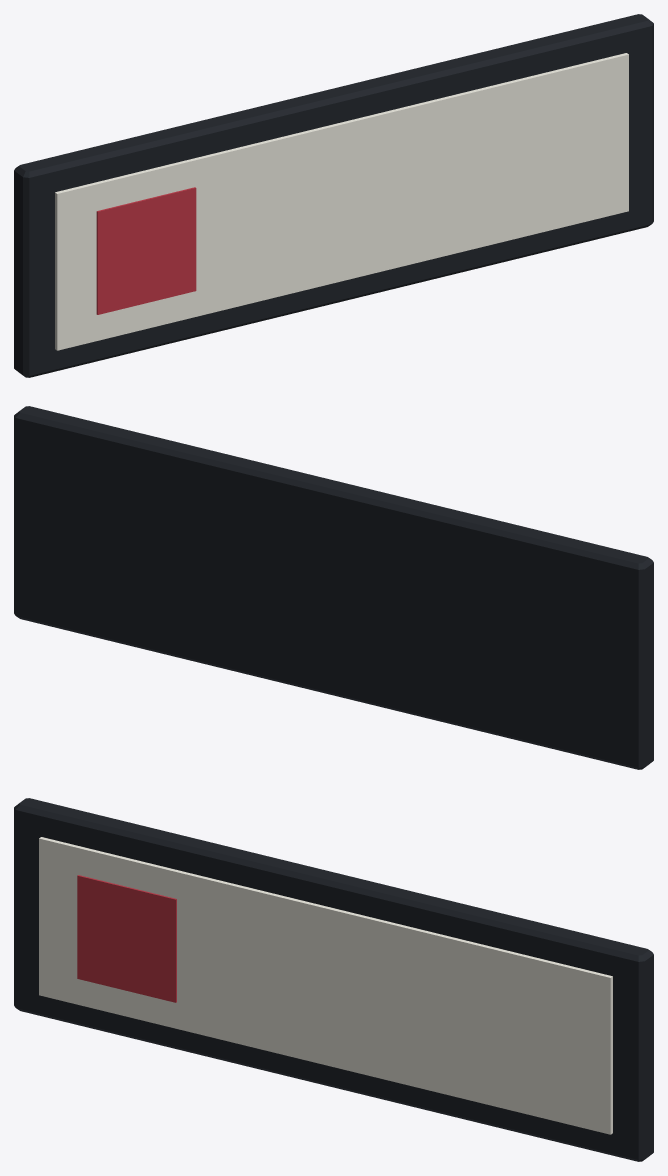
Rendered from shop_sign_blank.glb.
The picture shows the model from 3 angles, top to bottom: view 1: azimuth 30°, elevation 25°; view 2: azimuth 150°, elevation 25°; view 3: azimuth 330°, elevation 25°; orthographic projection.
Parts seen in each view (by area): view 1: shop_sign_blank; view 2: shop_sign_blank; view 3: shop_sign_blank.
Part boxes in pixels (left/top/right/bottom): shop_sign_blank: left=14, top=14, right=653, bottom=377; shop_sign_blank: left=14, top=406, right=653, bottom=769; shop_sign_blank: left=14, top=798, right=653, bottom=1161.
Bounding box in the file's own units: 1.6 × 0.5 × 0.0745.
